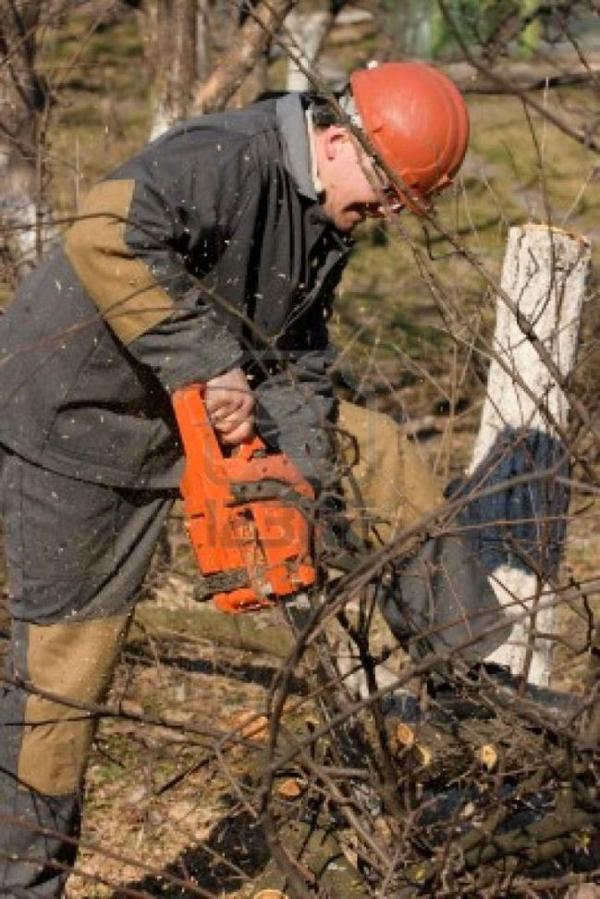person: (3, 62, 513, 895)
